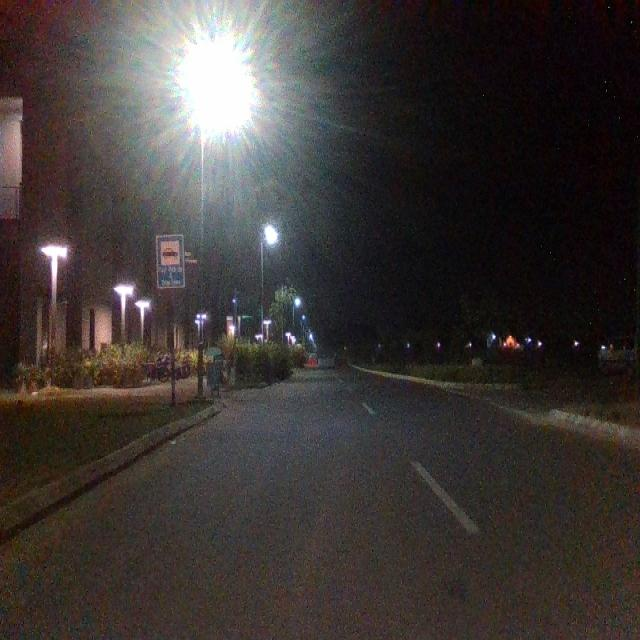lane: (1, 381, 554, 640)
